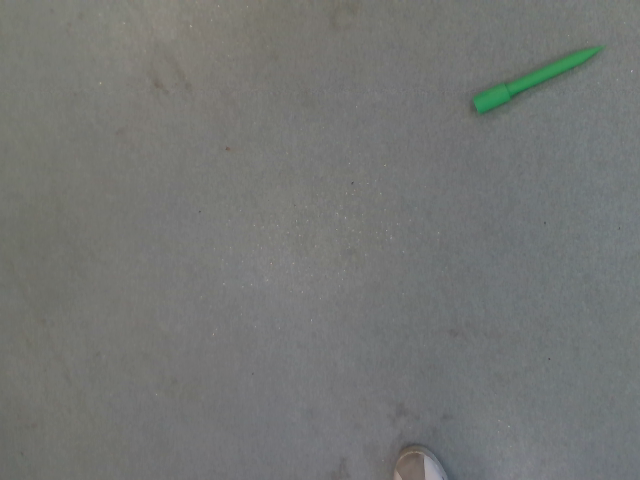Probe: (465, 39, 613, 120)
